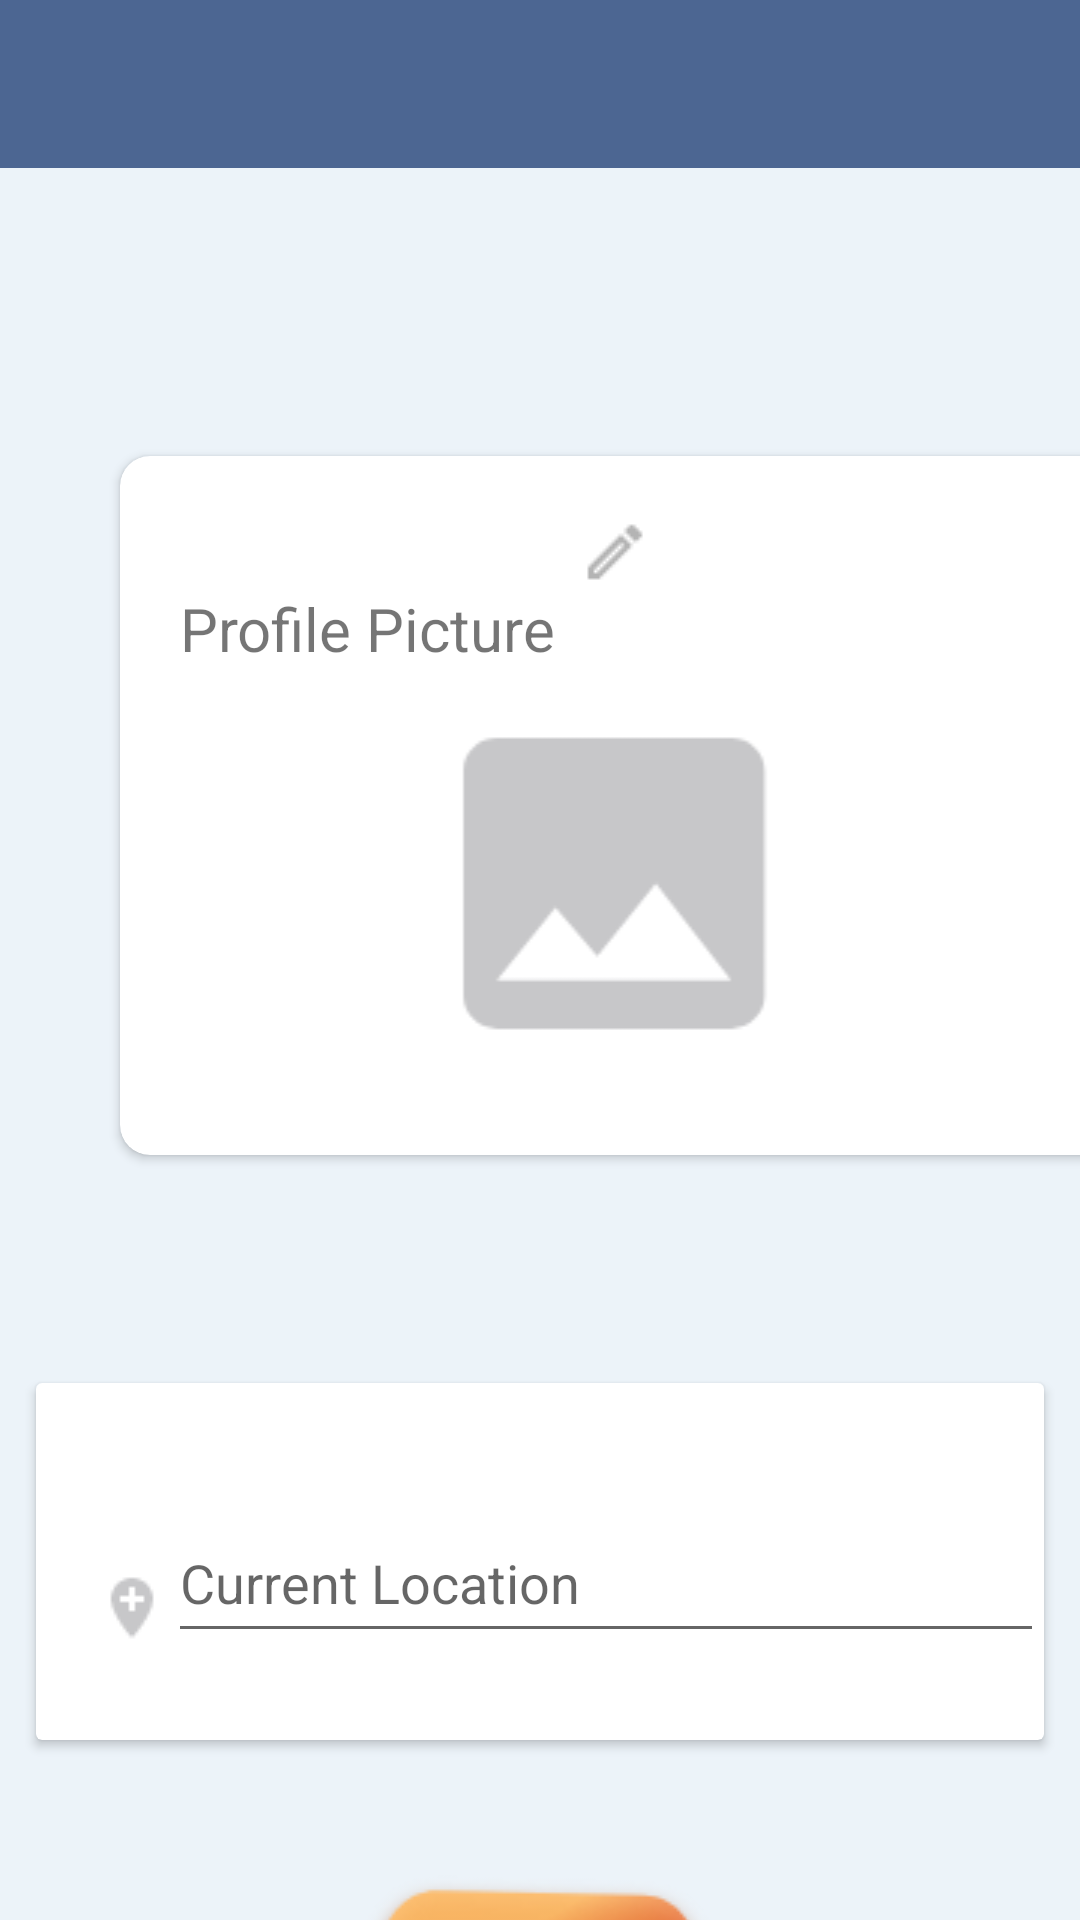

Named icons in this screenshot (1080 × 1920) and their centers, [x,y]:
pencil: [614,552]
